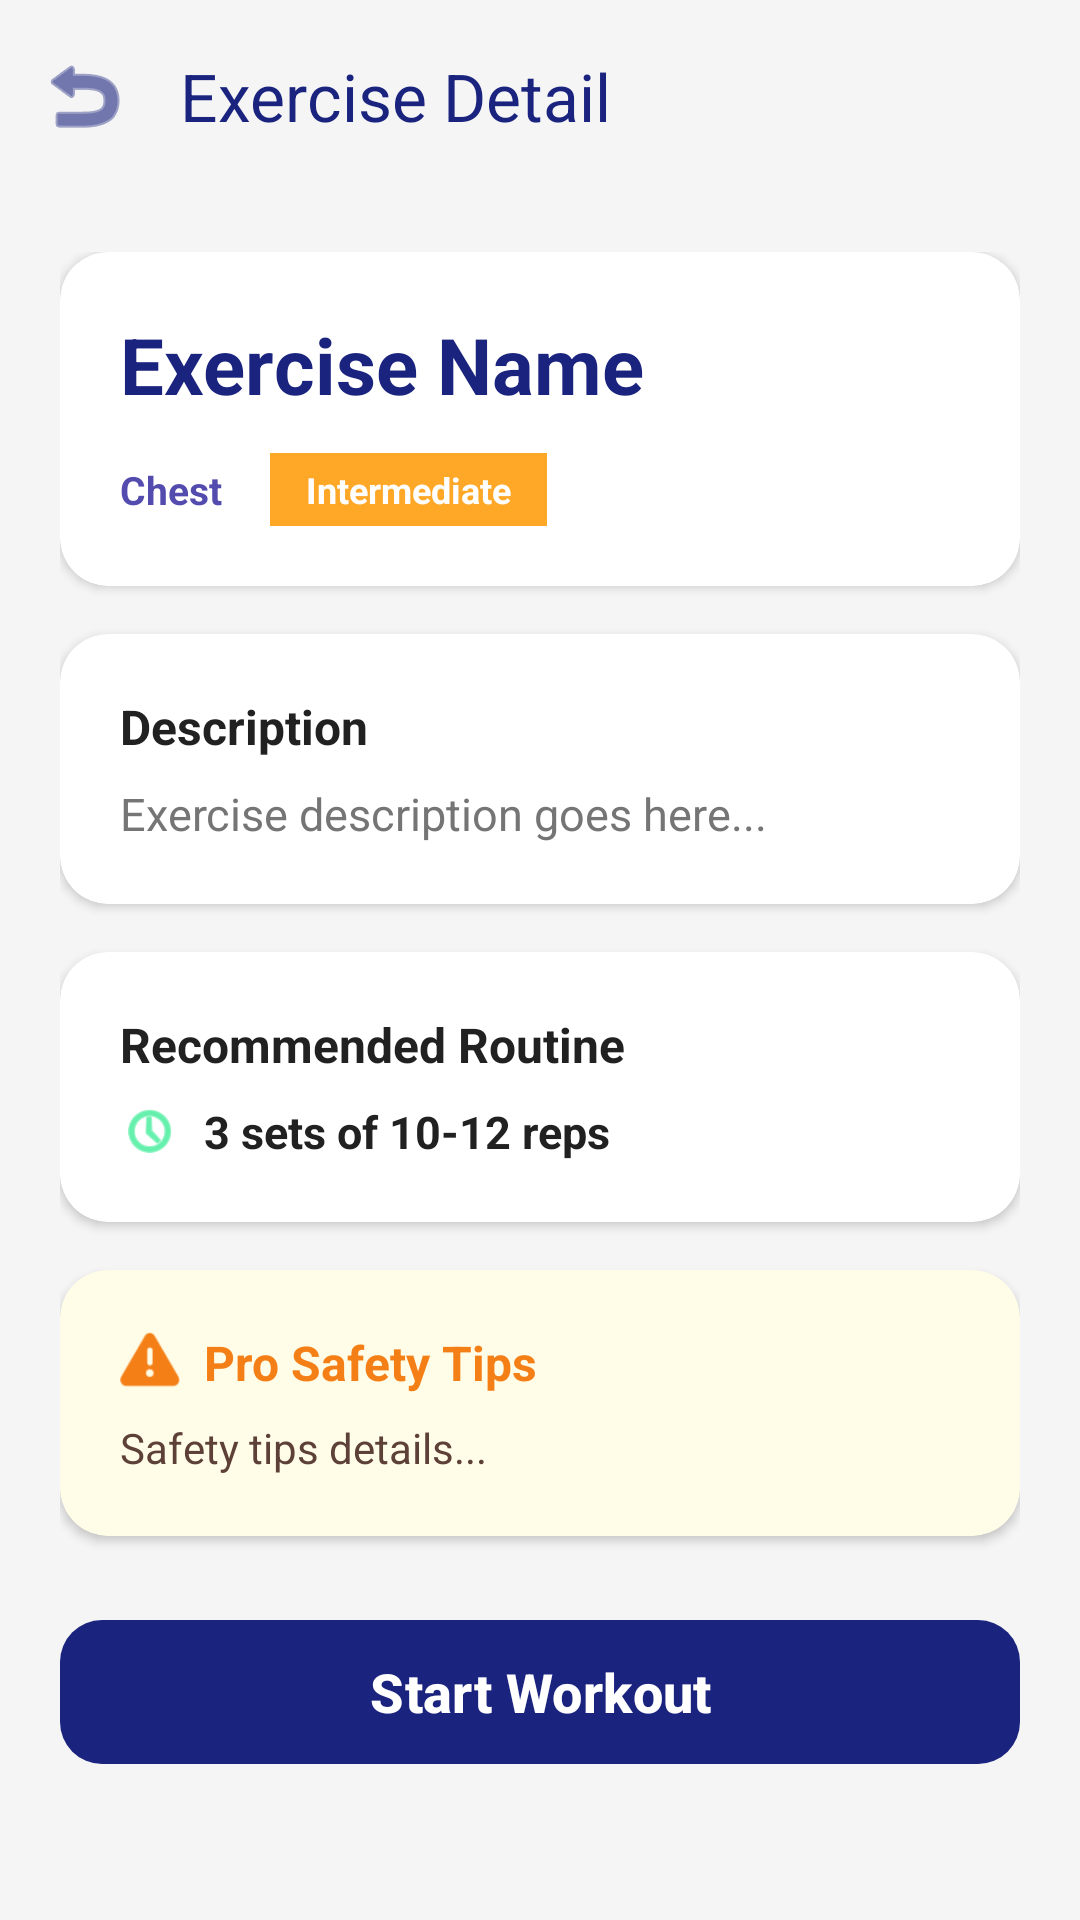

Icons on this 1080 x 1920 Android screen, each with its box as {"x1": x1, "y1": y1, "x2": x2, "y2": y2}:
Alert Icon: {"x1": 120, "y1": 1332, "x2": 180, "y2": 1387}
